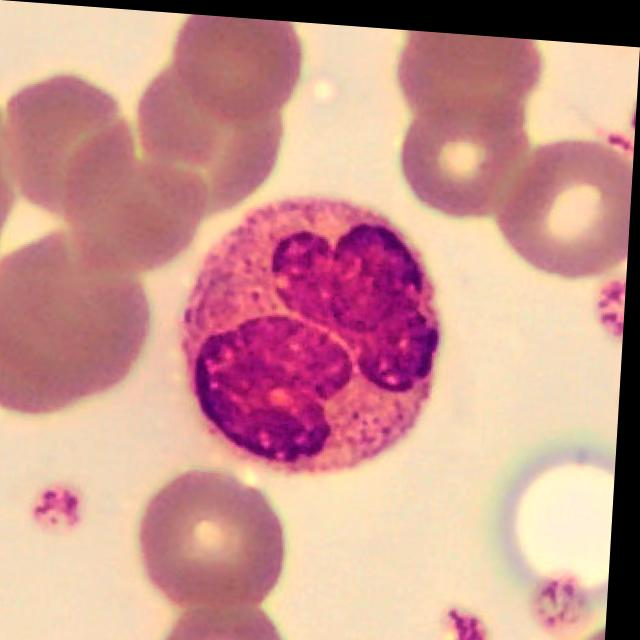Neutrofilo segmentado: (188, 194, 443, 464)
